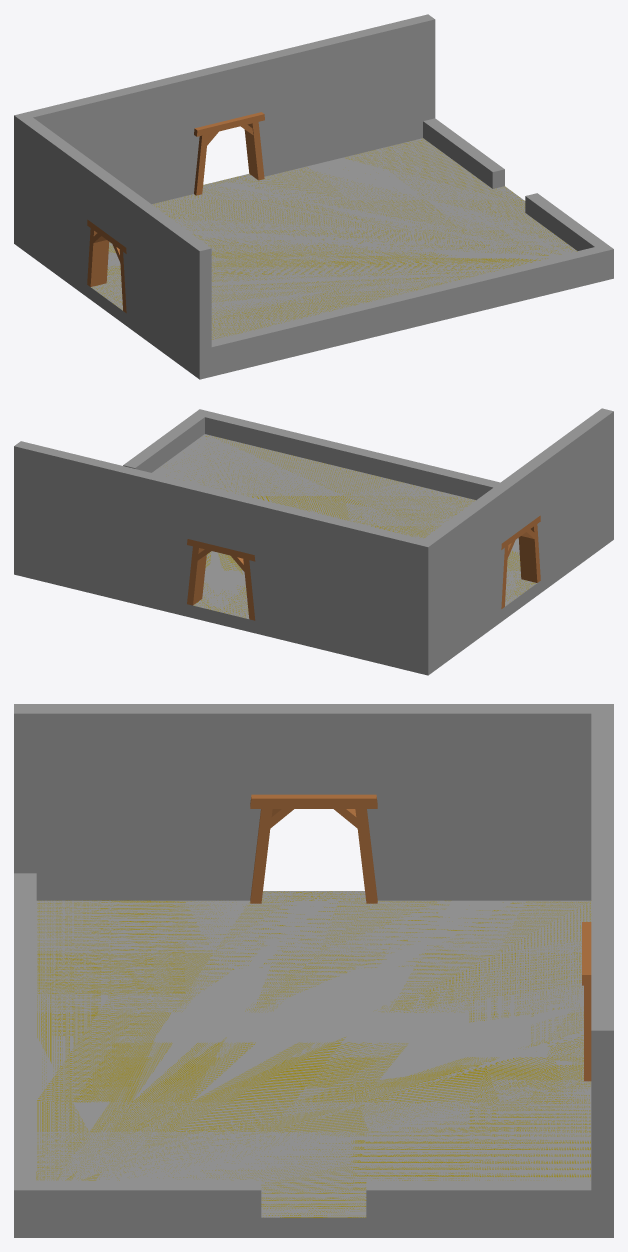
File: salaMedianaDosPuertas.fbx
3 views of the same model, one above another, from view 1: azimuth 30°, elevation 25°; view 2: azimuth 150°, elevation 25°; view 3: azimuth 270°, elevation 25° (orthographic). The views are drawn at different scales.
Parts seen in each view (by area): view 1: group_1, group_2, group_3, group_0; view 2: group_1, group_2, group_3, group_0; view 3: group_2, group_1, group_0, group_3.
Boxes of the visible parts, box(x1,y1,x2,y2) form: group_1: box(14, 14, 613, 379); group_2: box(91, 138, 577, 340); group_3: box(194, 112, 264, 195); group_0: box(87, 219, 126, 313); group_1: box(14, 408, 613, 675); group_2: box(152, 434, 536, 618); group_3: box(187, 539, 255, 620); group_0: box(501, 515, 540, 608); group_2: box(36, 891, 591, 1217); group_1: box(14, 704, 613, 1237); group_0: box(250, 794, 377, 903); group_3: box(582, 922, 591, 1081).
Size of the model in its own units: 2060 by 610 by 1600.
